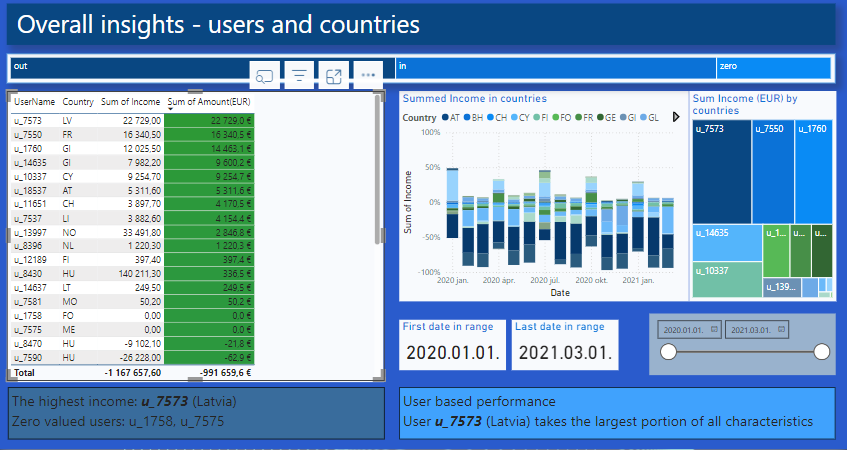

The page's visual inventory and layout, read from the dashboard file:
{"tool":"powerbi","page":{"name":"Ins_1","canvas":[1280,720],"ordinal":1},"visuals":[{"type":"tableEx","fields":{"Values":["DATA.UserName","DATA.Country","Sum(DATA.Income)","Sum(DATA.Amount(EUR))"]},"box":[13.8,180,567.5,438.3],"z":0},{"type":"actionButton","box":[0,0,100,40],"z":1000},{"type":"slicer","fields":{"Values":["DATA.CorrEndDate"]},"box":[981.4,516.7,280.6,93.2],"z":2000},{"type":"hundredPercentStackedColumnChart","title":"Summed Income in countries","fields":{"Category":["DATA.CorrEndDate.Variation.Date Hierarchy.Year"],"Series":["DATA.Country"],"Y":["Sum(DATA.Income)"]},"box":[604.5,180,436.2,316.6],"z":3000},{"type":"treemap","fields":{"Group":["DATA.IncomeType"],"Values":["CountNonNull(DATA.UserName)"]},"box":[14,124,1247.8,45],"z":4000},{"type":"textbox","box":[13.8,49.8,1248.2,62.5],"z":5000},{"type":"textbox","box":[14.3,627.1,567.1,78.6],"z":7000},{"type":"textbox","box":[604.3,627.1,657.1,78.6],"z":8000},{"type":"card","title":"First date in range","fields":{"Values":["Calculations.FirstDate_msr"]},"box":[604.5,525.1,160.9,76.2],"z":9000},{"type":"card","title":"Last date in range","fields":{"Values":["Calculations.LastDate_msr"]},"box":[772.9,525.1,160.9,76.2],"z":10000},{"type":"treemap","title":"Sum Income (EUR) by countries","fields":{"Values":["Sum(DATA.Amount(EUR))"],"Group":["DATA.UserName"]},"box":[1040.7,180,221.3,316.6],"z":11000}]}

Visuals, with their boxes on the page's 1280x720 design canvas (x1, y1, x2, y2). These are canvas units, not pixel positions in the 847x450 screenshot, which may show the page scaled, cropped or inside an application window:
tableEx - DATA.UserName x DATA.Country: (14, 180, 581, 618)
actionButton: (0, 0, 100, 40)
slicer - DATA.CorrEndDate: (981, 517, 1262, 610)
"Summed Income in countries" hundredPercentStackedColumnChart: (604, 180, 1041, 497)
treemap - DATA.IncomeType x CountNonNull(DATA.UserName): (14, 124, 1262, 169)
textbox: (14, 50, 1262, 112)
textbox: (14, 627, 581, 706)
textbox: (604, 627, 1261, 706)
"First date in range" card: (604, 525, 765, 601)
"Last date in range" card: (773, 525, 934, 601)
"Sum Income (EUR) by countries" treemap: (1041, 180, 1262, 497)
